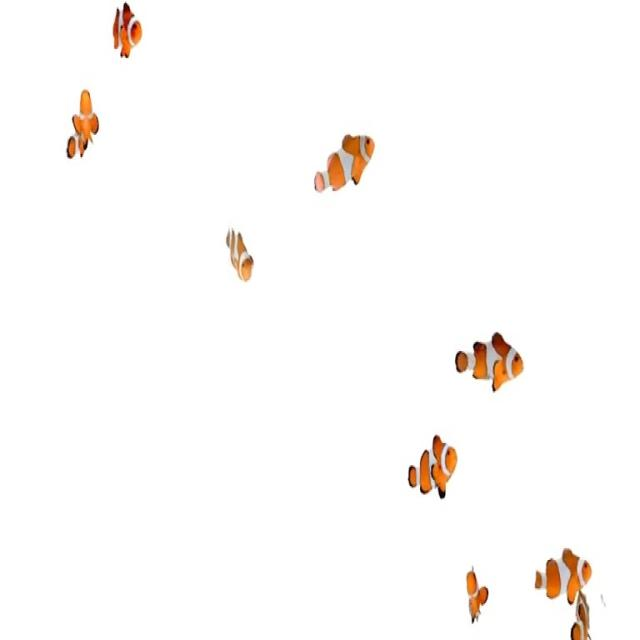fish: (453, 326, 524, 401), (310, 117, 376, 194), (408, 430, 458, 508), (532, 548, 592, 604), (218, 214, 258, 294), (64, 83, 100, 161), (108, 4, 142, 65), (468, 570, 490, 625)
